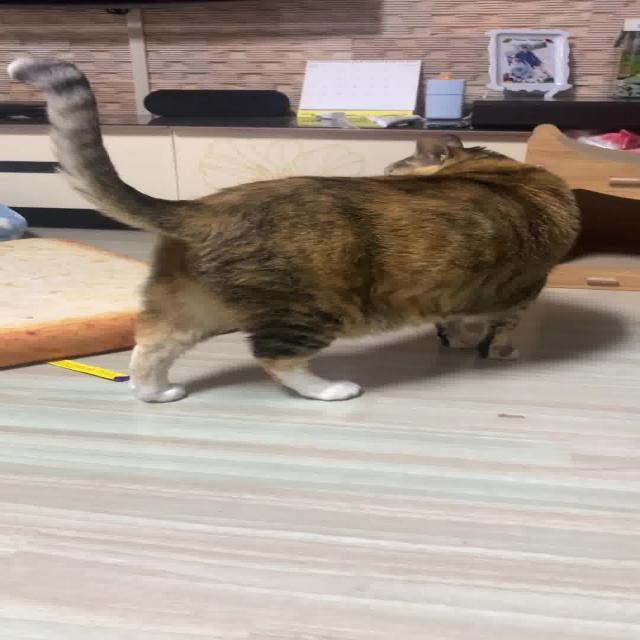cat: (8, 49, 583, 402)
